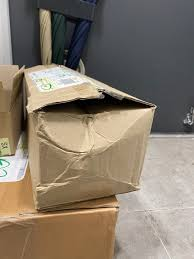damaged package: (34, 85, 155, 118)
